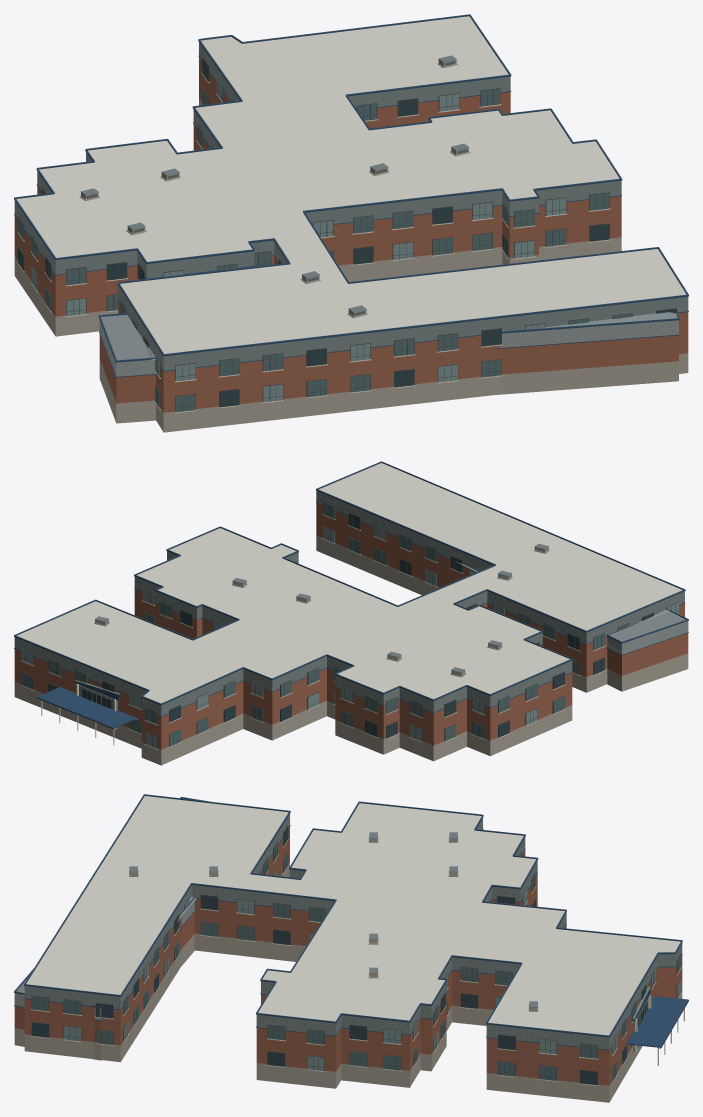
File: central-elementary.glb
3 views of the same model, one above another, from view 1: azimuth 30°, elevation 25°; view 2: azimuth 150°, elevation 25°; view 3: azimuth 270°, elevation 25° (orthographic). The views are drawn at different scales.
Parts seen in each view (by area): view 1: 856515420 | Roof, 856515420 | central-portal 1, 856515420 | Shell and foundation, 856515420 | Facades, South gym wing | Shell and foundation, South gym wing | Roof; view 2: 856515420 | Roof, 856515420 | central-portal 1, 856515420 | Shell and foundation, 856515420 | Facades, South gym wing | Shell and foundation, South gym wing | Roof; view 3: 856515420 | Roof, 856515420 | central-portal 1, 856515420 | Shell and foundation, 856515420 | Facades.
Boxes of the visible parts, box(x1,y1,x2,y2) form: 856515420 | Roof: box(14, 16, 688, 432); 856515420 | central-portal 1: box(14, 14, 688, 413); 856515420 | Shell and foundation: box(14, 57, 688, 412); 856515420 | Facades: box(14, 43, 687, 412); South gym wing | Shell and foundation: box(99, 320, 678, 376); South gym wing | Roof: box(101, 312, 677, 360); 856515420 | Roof: box(14, 463, 688, 765); 856515420 | central-portal 1: box(14, 461, 688, 749); 856515420 | Shell and foundation: box(14, 503, 688, 749); 856515420 | Facades: box(14, 491, 688, 748); South gym wing | Shell and foundation: box(470, 569, 688, 654); South gym wing | Roof: box(456, 561, 685, 641); 856515420 | Roof: box(14, 796, 682, 1102); 856515420 | central-portal 1: box(14, 794, 688, 1085); 856515420 | Shell and foundation: box(14, 827, 682, 1085); 856515420 | Facades: box(14, 814, 681, 1085).
Size of the model in its own units: 89.71 by 11.77 by 101.
